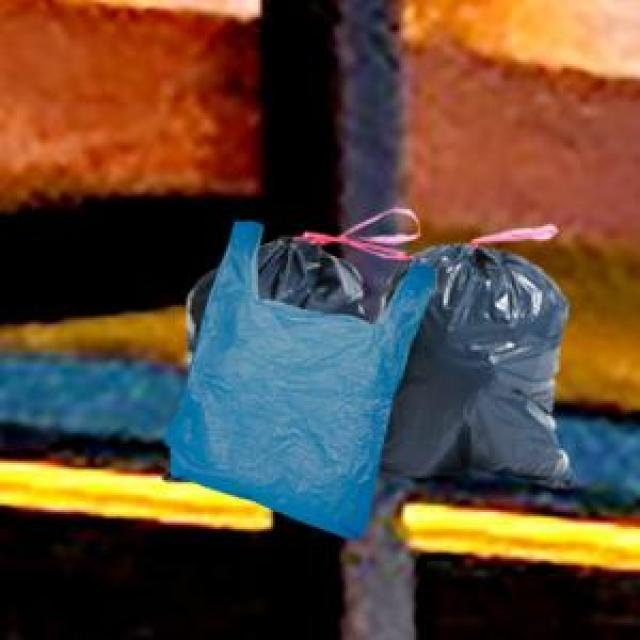miscellaneous trash: (158, 222, 568, 484)
